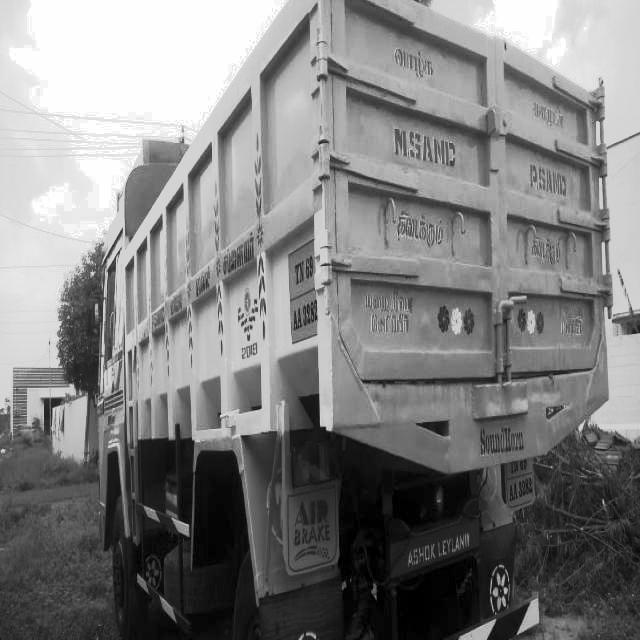HCV: (69, 1, 619, 618)
